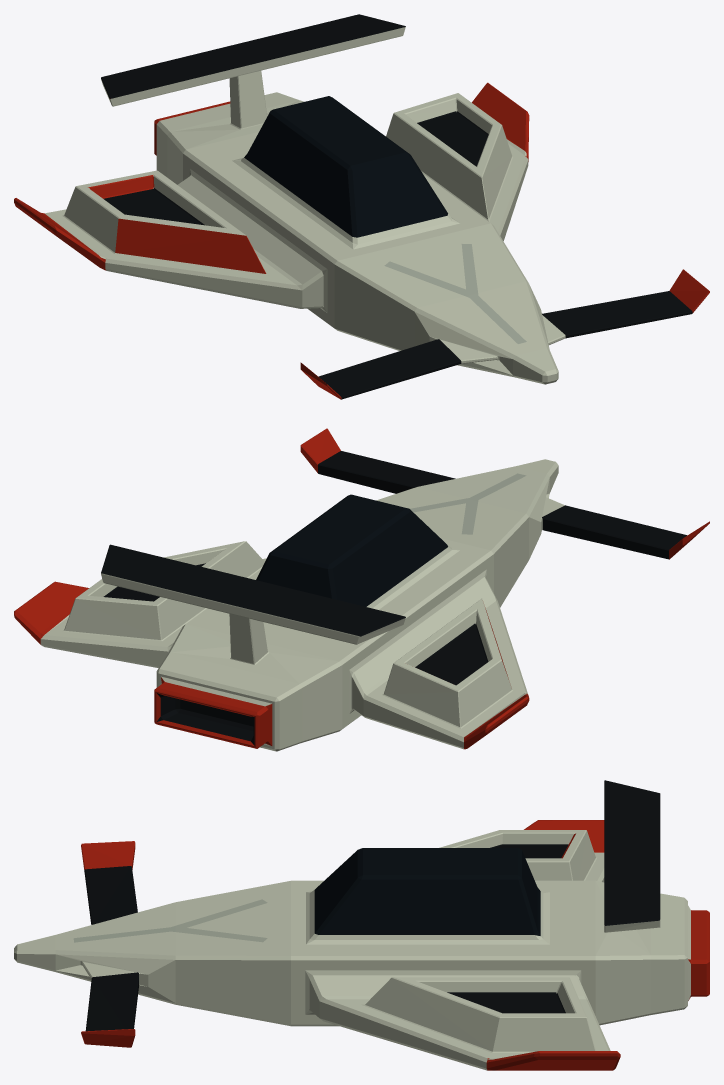
The model's file is Nave_Aster.obj.
3 renders of one model, top to bottom at view 1: azimuth 30°, elevation 25°; view 2: azimuth 150°, elevation 25°; view 3: azimuth 270°, elevation 25°, orthographic.
Visible parts, largest first — view 1: Nave_Aster_R; view 2: Nave_Aster_R; view 3: Nave_Aster_R.
Part boxes in pixels (left/top/right/bottom): Nave_Aster_R: left=14, top=14, right=709, bottom=399; Nave_Aster_R: left=14, top=428, right=709, bottom=751; Nave_Aster_R: left=14, top=780, right=709, bottom=1070.
Bounding box in the file's own units: 5.97 × 1.63 × 7.54.
